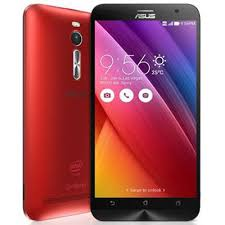asus: (86, 1, 203, 222), (19, 1, 91, 221)
